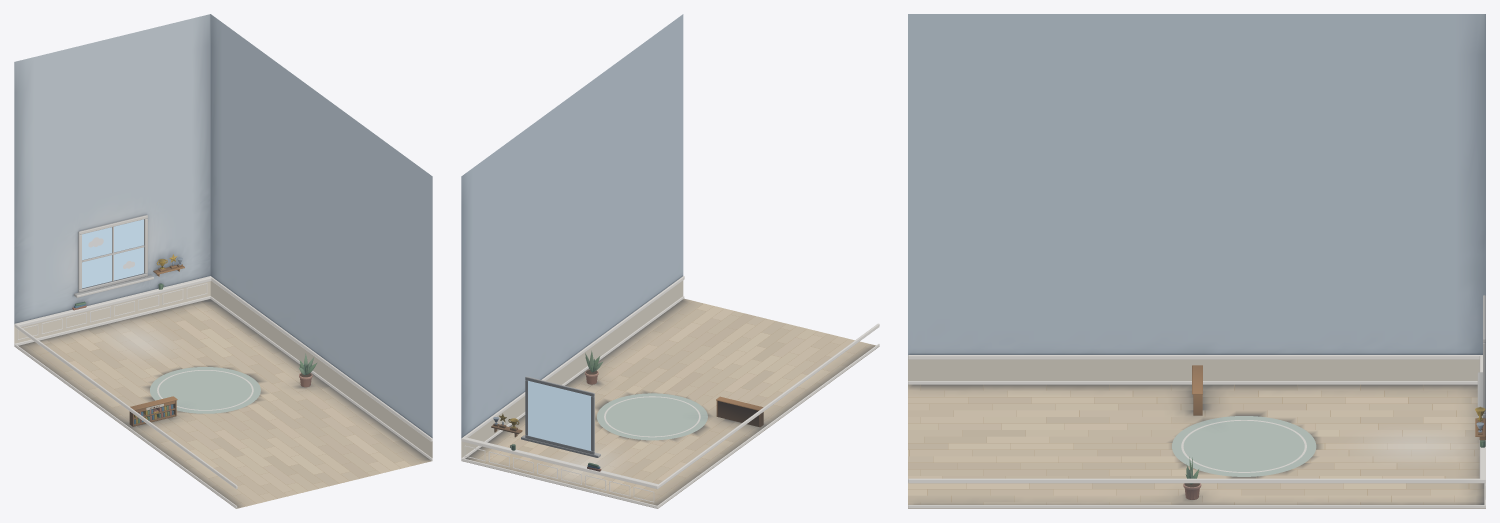
The model's file is study_room.glb.
3 renders of one model, left to right at view 1: azimuth 30°, elevation 25°; view 2: azimuth 150°, elevation 25°; view 3: azimuth 270°, elevation 25°, orthographic. The views are drawn at different scales.
Parts seen in each view (by area): view 1: room_static, window_glass; view 2: room_static, window_glass; view 3: room_static.
Part boxes in pixels (x1=…): room_static: x1=14, y1=14, x2=432, y2=508; window_glass: x1=82, y1=219, x2=143, y2=288; room_static: x1=461, y1=14, x2=879, y2=508; window_glass: x1=528, y1=380, x2=591, y2=450; room_static: x1=908, y1=14, x2=1485, y2=508.
Bounding box in the file's own units: 9.4 × 13 × 18.4.
